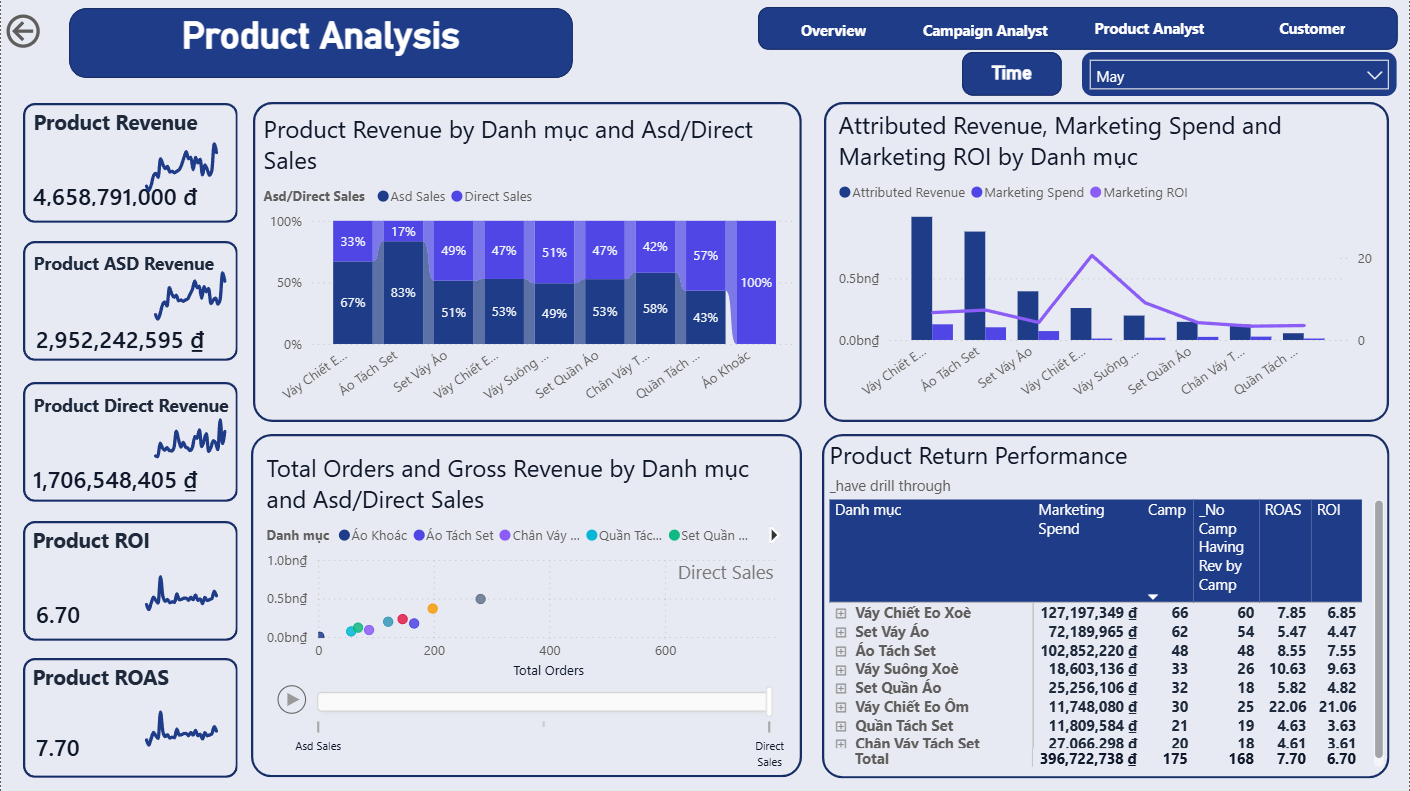

The dashboard page shown, as its layout file describes it:
{"tool":"powerbi","page":{"name":"Product","canvas":[1280,720],"ordinal":2},"visuals":[{"type":"actionButton","box":[0,7.9,61.9,40.3],"z":0},{"type":"shape","box":[19.9,93.7,195.4,108.9],"z":0,"group":"g1"},{"type":"shape","box":[19.8,218.9,195.4,108.9],"z":0,"group":"g4"},{"type":"shape","box":[19.8,347.4,195.4,108.9],"z":0,"group":"g2"},{"type":"shape","box":[19.8,473.5,195.4,108.9],"z":0,"group":"g3"},{"type":"shape","box":[19.8,598.5,195.4,108.9],"z":0,"group":"g5"},{"type":"shape","box":[688.4,6.3,581.6,38.9],"z":1000,"group":"g6"},{"type":"group","id":"g1","title":"Group 2","box":[0,92.8,215.3,112.3],"z":1000},{"type":"cardVisual","fields":{"Data":["measure.Product Revenue"]},"box":[0,147.7,209.2,57.4],"z":1000,"group":"g1"},{"type":"cardVisual","fields":{"Data":["measure.Product ASD Revenue"]},"box":[2.7,272.4,227,68.4],"z":1000,"group":"g4"},{"type":"cardVisual","fields":{"Data":["measure.Product Direct Revenue"]},"box":[0,403,240.7,61.5],"z":1000,"group":"g2"},{"type":"cardVisual","fields":{"Data":["measure.Product ROI"]},"box":[2.7,523.8,154.5,65.6],"z":1000,"group":"g3"},{"type":"cardVisual","fields":{"Data":["measure.Product ROAS"]},"box":[2.7,644.6,154.5,65.6],"z":1000,"group":"g5"},{"type":"textbox","box":[24.1,92.8,184.4,56.1],"z":2000,"group":"g1"},{"type":"textbox","box":[24.6,223.1,202.4,60.2],"z":2000,"group":"g4"},{"type":"group","id":"g2","title":"Group 2","box":[0,347.4,251.6,117.1],"z":2000},{"type":"textbox","box":[24.6,353.2,227,49.2],"z":2000,"group":"g2"},{"type":"textbox","box":[24,472.6,184.4,56.1],"z":2000,"group":"g3"},{"type":"textbox","box":[24,597.6,184.4,56.1],"z":2000,"group":"g5"},{"type":"lineChart","fields":{"Category":["dim_date.Day"],"Y":["measure.Attributed Revenue"]},"box":[117.4,115.8,93.6,65.1],"z":3000,"group":"g1"},{"type":"lineChart","fields":{"Category":["dim_date.Date.Variation.Date Hierarchy.Day"],"Y":["measure.Product ASD Revenue"]},"box":[125.8,231.3,93,65.6],"z":3000,"group":"g4"},{"type":"lineChart","fields":{"Category":["dim_date.Date.Variation.Date Hierarchy.Day"],"Y":["measure.Product Direct Revenue"]},"box":[125.8,356.5,93,65.6],"z":3000,"group":"g2"},{"type":"group","id":"g3","title":"Group 2","box":[2.7,472.6,212.4,116.8],"z":3000},{"type":"lineChart","fields":{"Category":["dim_date.Date.Variation.Date Hierarchy.Day"],"Y":["measure.Product ROI"]},"box":[117.3,495.6,93.6,65.1],"z":3000,"group":"g3"},{"type":"lineChart","fields":{"Category":["dim_date.Date.Variation.Date Hierarchy.Day"],"Y":["measure.Product ROAS"]},"box":[117.3,620.6,93.6,65.1],"z":3000,"group":"g5"},{"type":"actionButton","box":[832.9,11.3,124.4,30.1],"z":4000,"group":"g6"},{"type":"group","id":"g4","title":"Group 2","box":[2.7,218.9,227,121.8],"z":4000},{"type":"group","id":"g5","title":"Group 2","box":[2.7,597.6,212.4,112.7],"z":5000},{"type":"shape","box":[61.5,7.4,458.2,63.6],"z":6000},{"type":"actionButton","box":[982.3,10.1,124.4,30.1],"z":6000,"group":"g6"},{"type":"textbox","box":[49.7,7.4,481.8,63.6],"z":7000},{"type":"actionButton","box":[1130.6,10.1,124.4,30.1],"z":8000,"group":"g6"},{"type":"shape","box":[229.3,92.3,498.8,290.8],"z":8000},{"type":"shape","box":[748.3,92.3,513.7,290.8],"z":9000},{"type":"shape","box":[746.1,394.8,515.8,313.1],"z":10000},{"type":"shape","box":[227.1,394.8,501,312],"z":11000},{"type":"hundredPercentStackedColumnChart","fields":{"Category":["dim_product.Danh mục"],"Series":["fact_order.Asd/Direct Sales "],"Y":["measure.Product Revenue"]},"box":[234,102.4,495,275],"z":12000},{"type":"scatterChart","fields":{"X":["measure.Total Orders"],"Series":["dim_product.Danh mục"],"Play":["fact_order.Asd/Direct Sales "],"Y":["measure.Gross Revenue"]},"box":[236.2,410.9,486.3,291.2],"z":13000},{"type":"lineClusteredColumnComboChart","fields":{"Category":["dim_product.Danh mục"],"Y":["measure.Attributed Revenue","measure.Marketing Spend"],"Y2":["measure.Marketing ROI"]},"box":[755.9,99.2,495,275],"z":14000},{"type":"pivotTable","title":"Product Return Performance","fields":{"Rows":["dim_product.Danh mục","fact_mkt_camp_by_sku_cost.Tên Sản Phẩm"],"Values":["measure.Marketing Spend","Count(fact_mkt_camp_by_sku_cost.Tên chiến dịch)","measure._No Camp Having Rev by Camp","measure.Product ROAS","measure.Product ROI"]},"box":[748.4,399,514.4,303],"z":15000},{"type":"slicer","fields":{"Values":["dim_date.Month Short","dim_date.Week of Month Label","dim_date.Day"]},"box":[982.4,47.4,285.8,39.9],"z":16000},{"type":"shape","box":[873.6,47.2,90.7,39.8],"z":17000},{"type":"textbox","box":[873.6,51,90.7,39.8],"z":18000},{"type":"group","id":"g6","title":"Group 4","box":[688.4,6.3,581.6,38.9],"z":19000},{"type":"actionButton","box":[694.7,11.3,124.4,30.1],"z":29000,"group":"g6"}]}

Visuals, with their boxes in screenshot pixels (x1, y1, x2, y2), scaled from the page's 1280x720 canvas onto the 1410x791 screenshot:
actionButton: 0:9:68:53
shape: 22:103:237:223
shape: 22:240:237:360
shape: 22:382:237:501
shape: 22:520:237:640
shape: 22:658:237:777
shape: 758:7:1399:50
"Group 2" group: 0:102:237:225
cardVisual - measure.Product Revenue: 0:162:230:225
cardVisual - measure.Product ASD Revenue: 3:299:253:374
cardVisual - measure.Product Direct Revenue: 0:443:265:510
cardVisual - measure.Product ROI: 3:575:173:648
cardVisual - measure.Product ROAS: 3:708:173:780
textbox: 27:102:230:164
textbox: 27:245:250:311
"Group 2" group: 0:382:277:510
textbox: 27:388:277:442
textbox: 26:519:230:581
textbox: 26:657:230:718
lineChart - dim_date.Day x measure.Attributed Revenue: 129:127:232:199
lineChart - dim_date.Date.Variation.Date Hierarchy.Day x measure.Product ASD Revenue: 139:254:241:326
lineChart - dim_date.Date.Variation.Date Hierarchy.Day x measure.Product Direct Revenue: 139:392:241:464
"Group 2" group: 3:519:237:648
lineChart - dim_date.Date.Variation.Date Hierarchy.Day x measure.Product ROI: 129:544:232:616
lineChart - dim_date.Date.Variation.Date Hierarchy.Day x measure.Product ROAS: 129:682:232:753
actionButton: 917:12:1055:45
"Group 2" group: 3:240:253:374
"Group 2" group: 3:657:237:780
shape: 68:8:572:78
actionButton: 1082:11:1219:44
textbox: 55:8:585:78
actionButton: 1245:11:1382:44
shape: 253:101:802:421
shape: 824:101:1390:421
shape: 822:434:1390:778
shape: 250:434:802:776
hundredPercentStackedColumnChart - dim_product.Danh mục x fact_order.Asd/Direct Sales : 258:112:803:415
scatterChart - measure.Total Orders x dim_product.Danh mục: 260:451:796:771
lineClusteredColumnComboChart - dim_product.Danh mục x measure.Attributed Revenue: 833:109:1378:411
"Product Return Performance" pivotTable: 824:438:1391:771
slicer - dim_date.Month Short x dim_date.Week of Month Label: 1082:52:1397:96
shape: 962:52:1062:96
textbox: 962:56:1062:100
"Group 4" group: 758:7:1399:50
actionButton: 765:12:902:45
